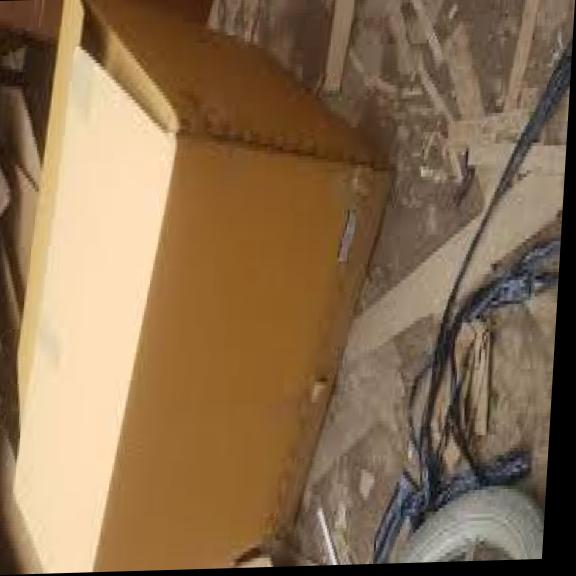Kertas: (15, 0, 386, 570)
